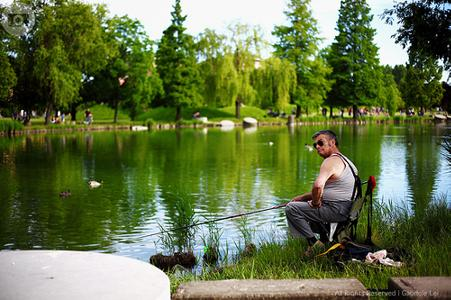person: (286, 131, 362, 261)
